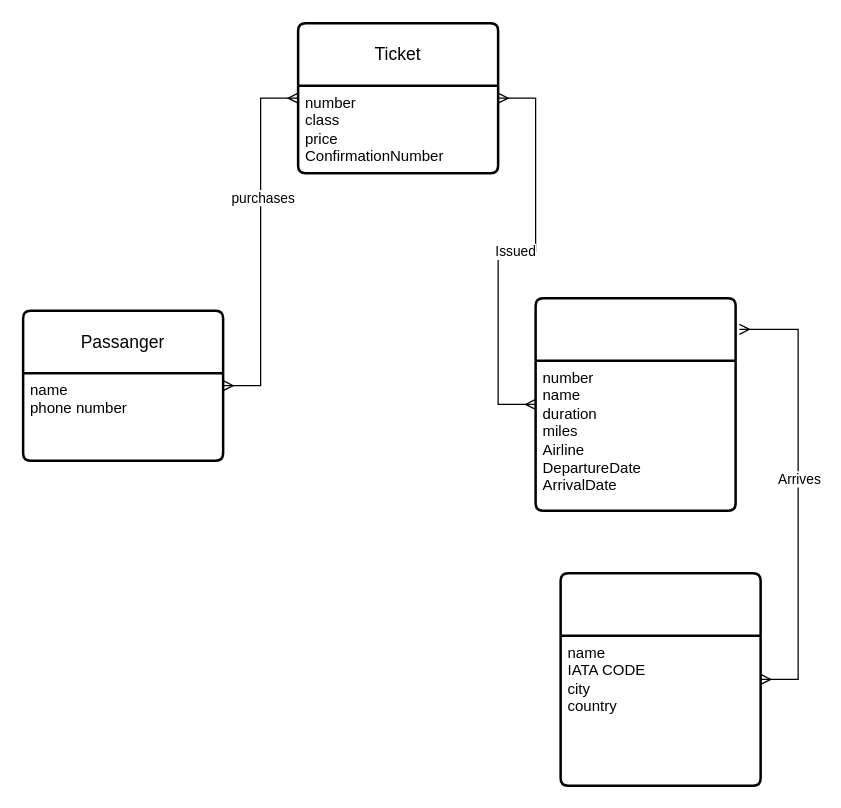
This 841x808 diagram has some shape labels left out. The box of each missing label's shape, as (x1, y1, x2, y2) in pixels:
Airport: (559, 571, 761, 786)
Flight: (534, 296, 736, 511)
